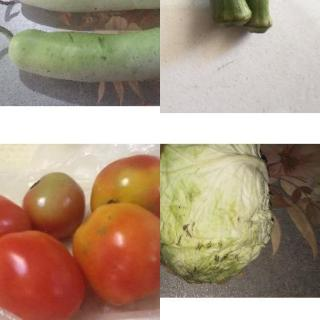Tomat: (1, 154, 160, 320)
